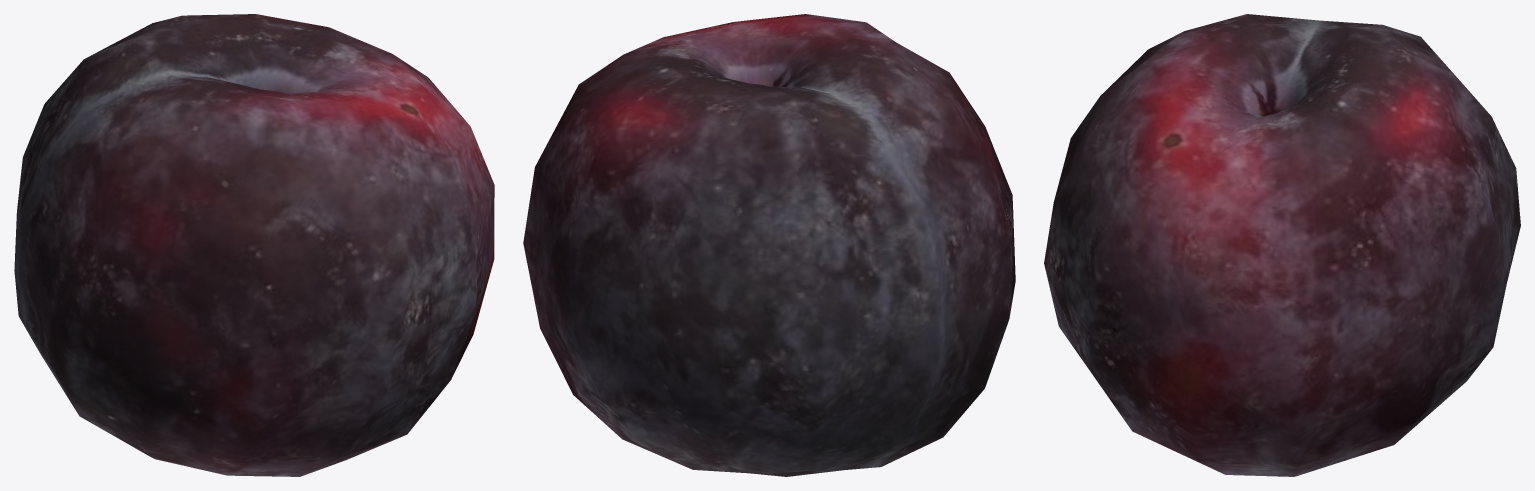
File: A125_Plum_low.fbx
3 renders of one model, left to right at view 1: azimuth 30°, elevation 25°; view 2: azimuth 150°, elevation 25°; view 3: azimuth 270°, elevation 25°, orthographic. The views are drawn at different scales.
Parts seen in each view (by area): view 1: A125_Plum_low; view 2: A125_Plum_low; view 3: A125_Plum_low.
Part boxes in pixels (x1,y1,x2,y2): A125_Plum_low: (14, 14, 494, 476); A125_Plum_low: (523, 14, 1015, 476); A125_Plum_low: (1044, 14, 1520, 476).
Bounding box in the file's own units: 4.86 × 4.88 × 4.34.
1 material, 1 textured.
